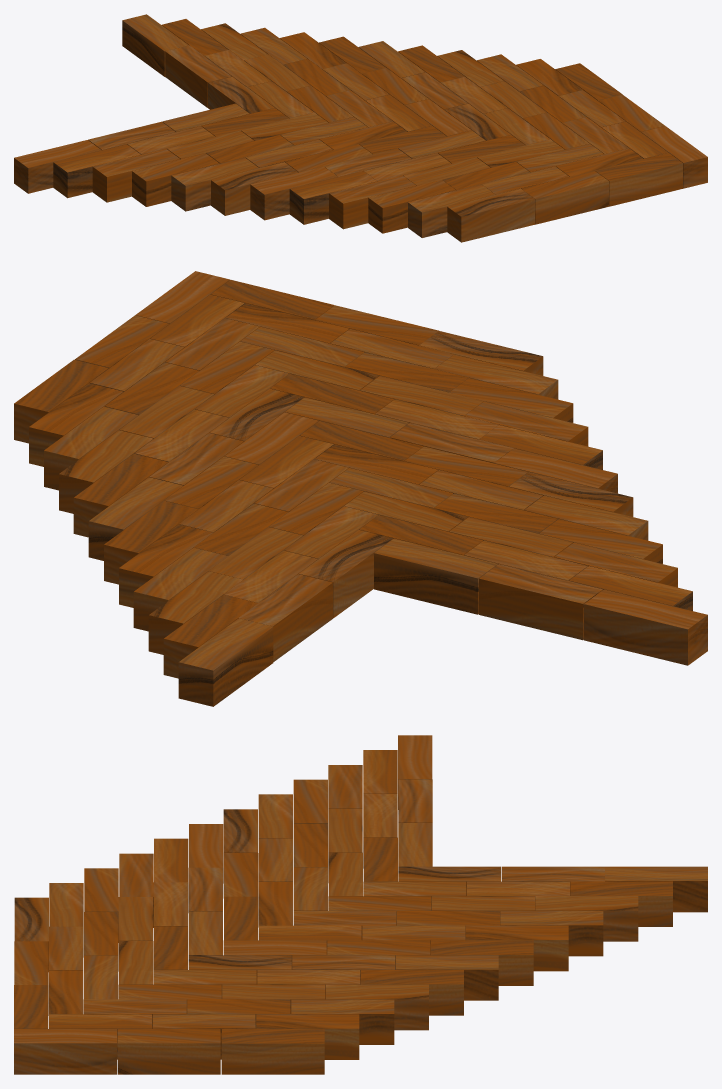
File: DiagonalStraightMedium.glb
The picture shows the model from 3 angles, top to bottom: view 1: azimuth 30°, elevation 25°; view 2: azimuth 150°, elevation 25°; view 3: azimuth 270°, elevation 25°; orthographic projection. The views are drawn at different scales.
Visible parts, largest first — view 1: DiagonalStraightMedium; view 2: DiagonalStraightMedium; view 3: DiagonalStraightMedium.
Boxes of the visible parts, x1,y1,x2,y2 form: DiagonalStraightMedium: (14, 14, 707, 242); DiagonalStraightMedium: (14, 271, 707, 706); DiagonalStraightMedium: (14, 735, 707, 1074).
Size of the model in its own units: 8.5 by 0.4 by 8.09.
1 material, 1 textured.
